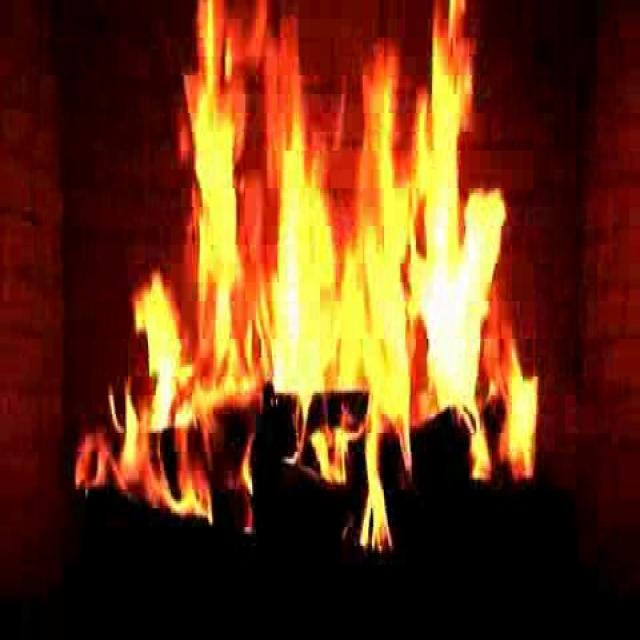fire: (141, 7, 510, 520)
